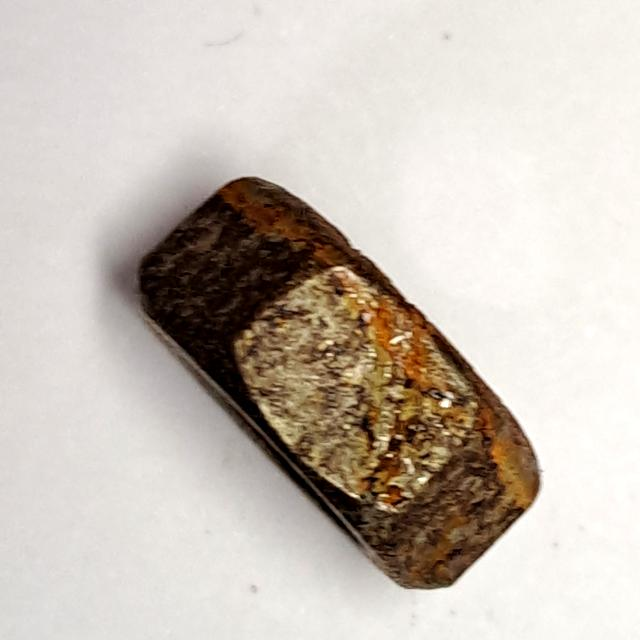Side_Rust: (128, 168, 552, 601)
